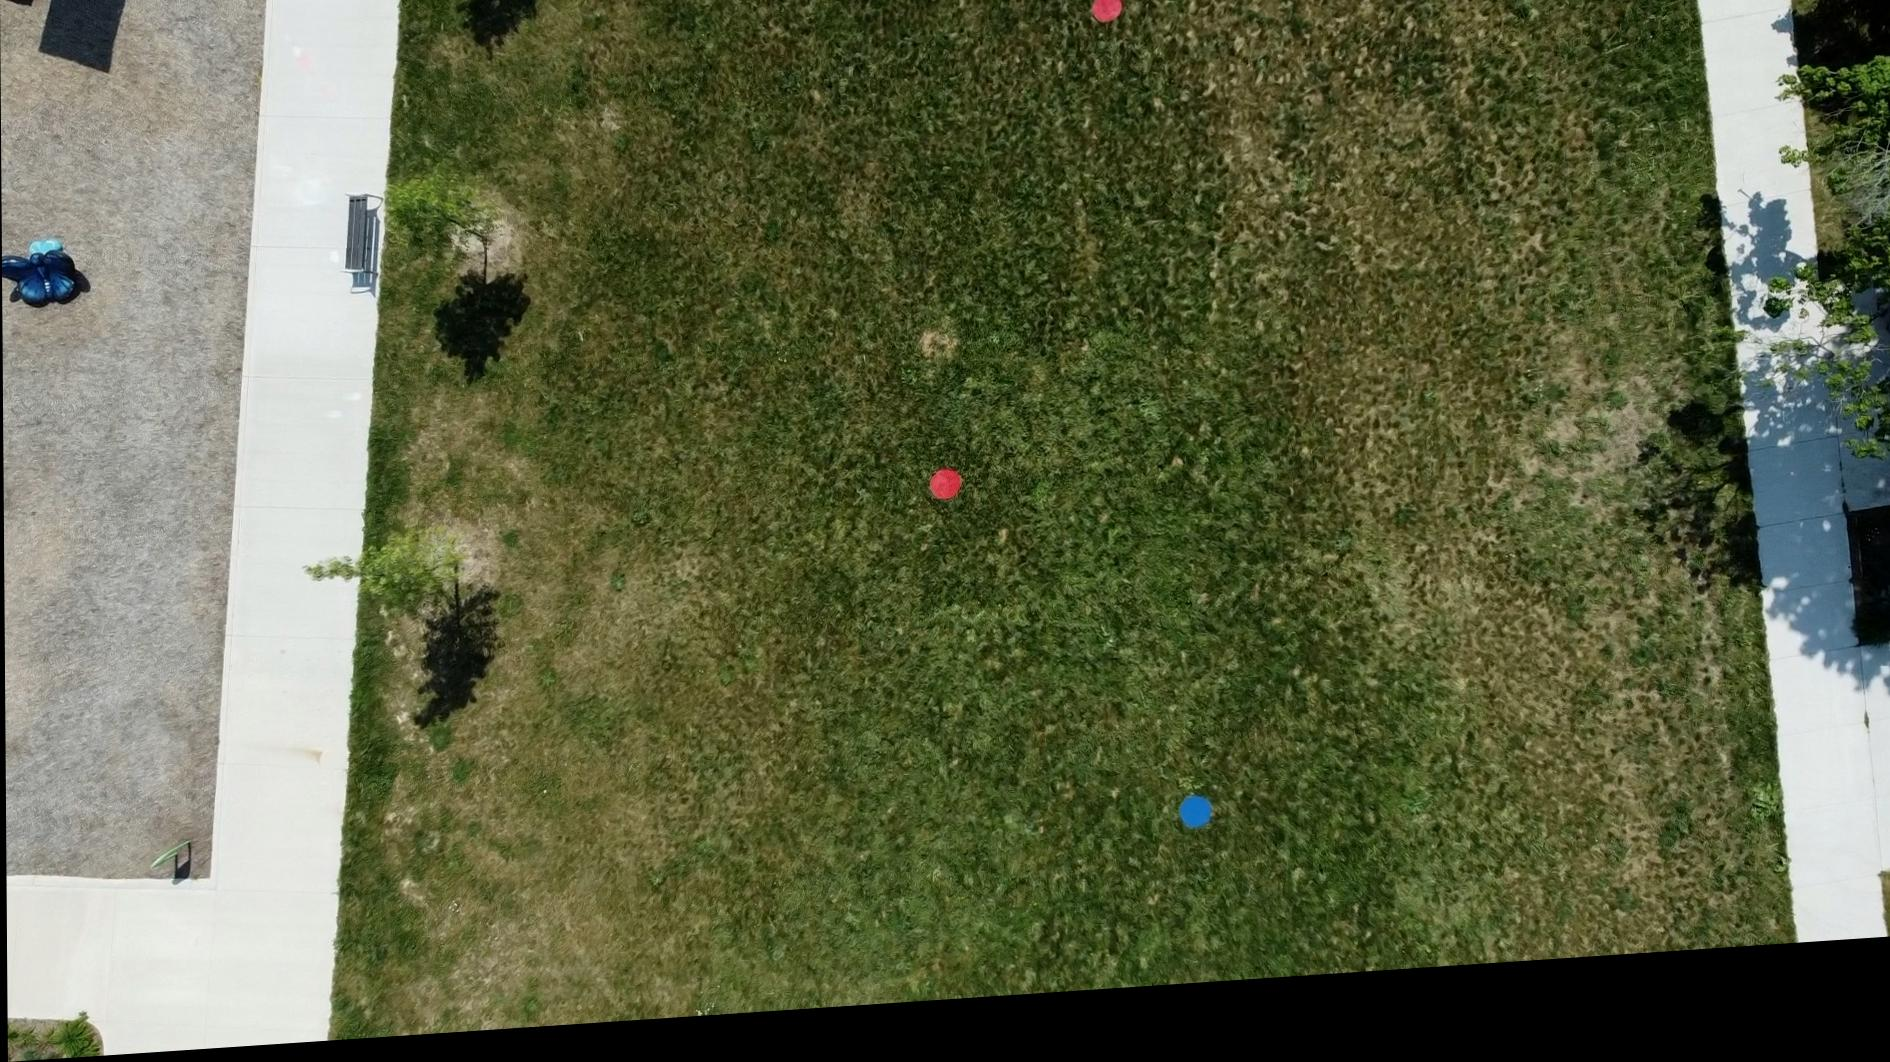Blue: (1176, 809, 1211, 846)
Red: (927, 478, 962, 515), (1090, 4, 1124, 42)
